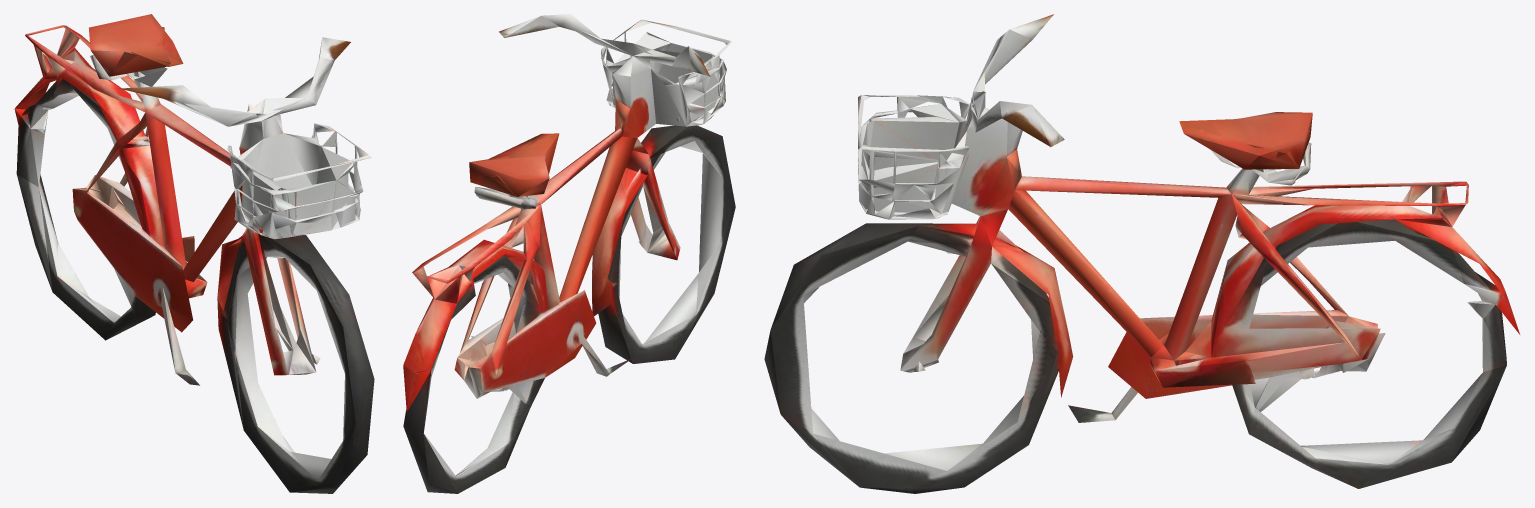
The model's file is bicycle.glb.
3 renders of one model, left to right at view 1: azimuth 30°, elevation 25°; view 2: azimuth 150°, elevation 25°; view 3: azimuth 270°, elevation 25°, orthographic. The views are drawn at different scales.
Visible parts, largest first — view 1: model; view 2: model; view 3: model.
Boxes of the visible parts, x1=… form: model: x1=14, y1=14, x2=374, y2=493; model: x1=403, y1=14, x2=735, y2=493; model: x1=764, y1=14, x2=1519, y2=493.
Bounding box in the file's own units: 0.7319 × 1.19 × 1.89.
Materials: 1 (1 with a texture image).
